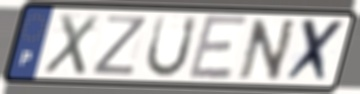E: (185, 12, 251, 83)
N: (236, 18, 299, 83)
U: (143, 13, 200, 80)
X: (281, 17, 348, 86), (40, 11, 102, 77)
Z: (89, 14, 151, 77)
